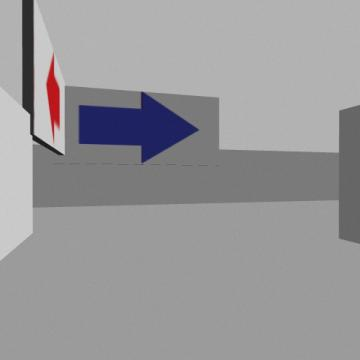blue_left: (79, 92, 199, 163)
red_left: (46, 53, 60, 142)
